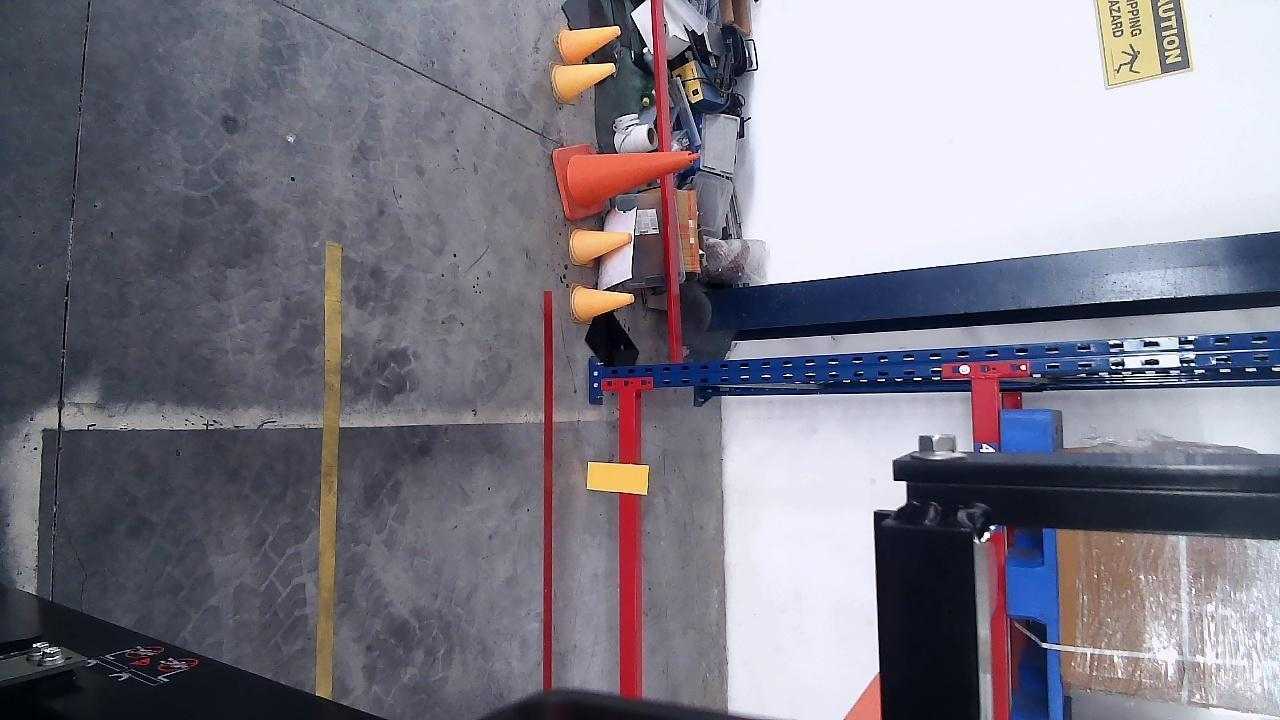red_line: (541, 290, 555, 688)
yellow_line: (316, 242, 340, 699)
